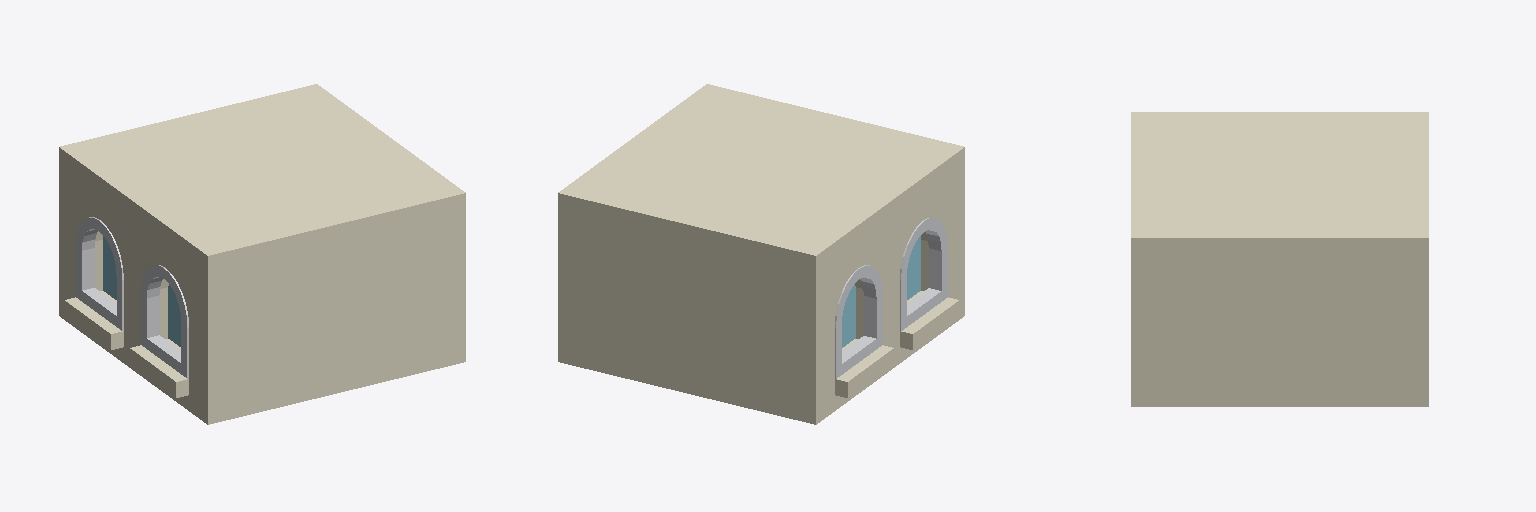
The model's file is modularBuildings_030.obj.
3 renders of one model, left to right at view 1: azimuth 30°, elevation 25°; view 2: azimuth 150°, elevation 25°; view 3: azimuth 270°, elevation 25°, orthographic.
Visible parts, largest first — view 1: Mesh1_Group1_Model.001, Mesh1_Group1_Model.002, Mesh1_Group1_Model.000_Mesh1_Group1_Model.003; view 2: Mesh1_Group1_Model.001, Mesh1_Group1_Model.002, Mesh1_Group1_Model.000_Mesh1_Group1_Model.003; view 3: Mesh1_Group1_Model.001.
Part boxes in pixels (x1,y1,x2,y2): Mesh1_Group1_Model.001: (59,84,465,424); Mesh1_Group1_Model.002: (141,265,188,378); Mesh1_Group1_Model.000_Mesh1_Group1_Model.003: (76,217,123,330); Mesh1_Group1_Model.001: (558,84,964,424); Mesh1_Group1_Model.002: (900,218,947,331); Mesh1_Group1_Model.000_Mesh1_Group1_Model.003: (835,265,882,378); Mesh1_Group1_Model.001: (1131,112,1428,406).
Size of the model in its own units: 1.05 by 0.625 by 1.